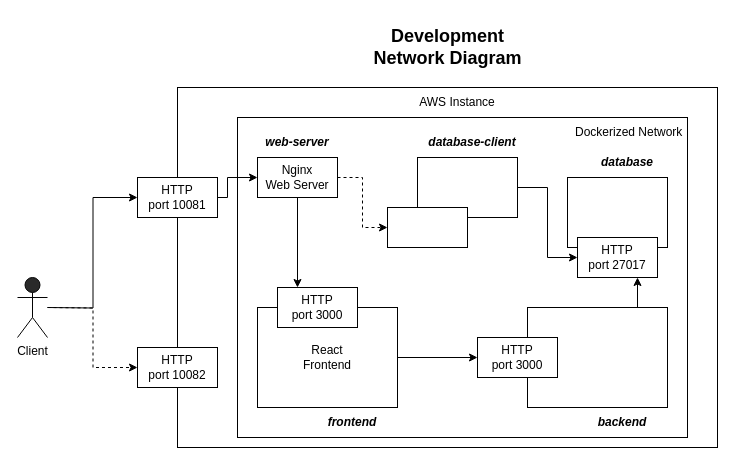
The diagram is 735 pixels wide and 465 high, and some of its shapes have lost their labels. The centre of each missing label's shape, as x and y in pixels:
HTTP port 8081: pixel 427 227
Mongo-Express: pixel 467 187
MongoDB: pixel 617 212
Node Express Backend: pixel 597 357
